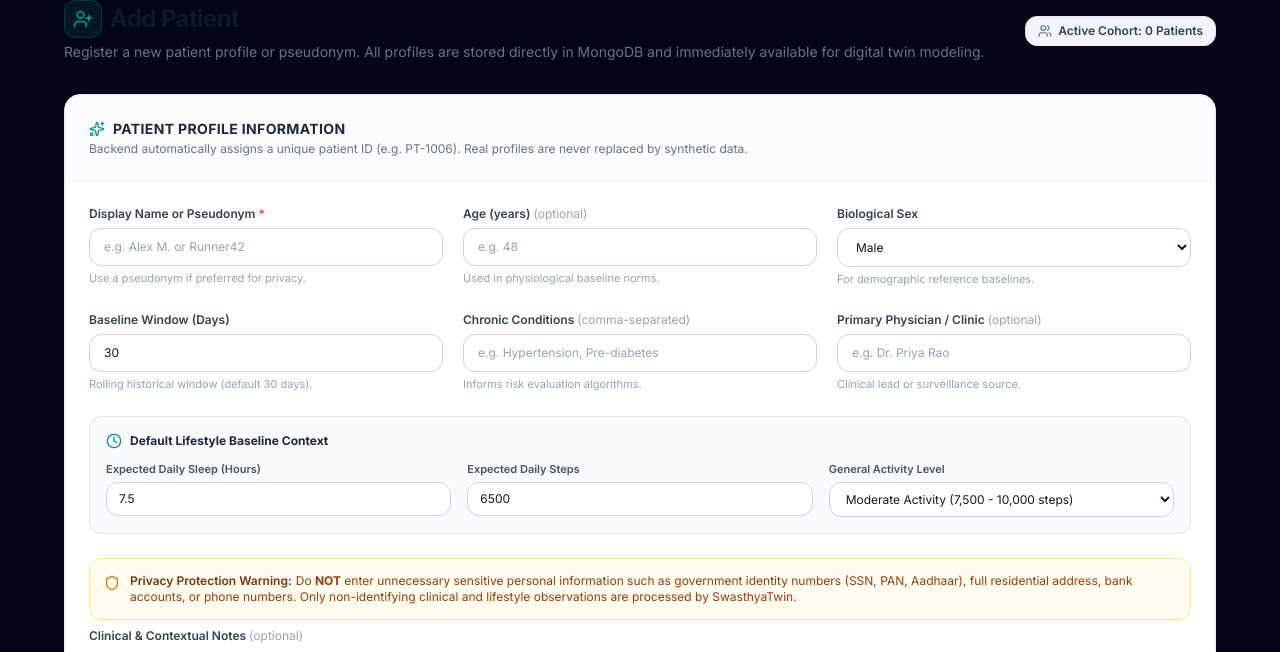
AddPatientPage Component › rejects submission if consent is not confirmed
Type "Jane Doe" into the field with placeholder "e.g. Alex M. or Runner42". click: (266, 247)
box: [89, 228, 443, 266]
(page scrolled)
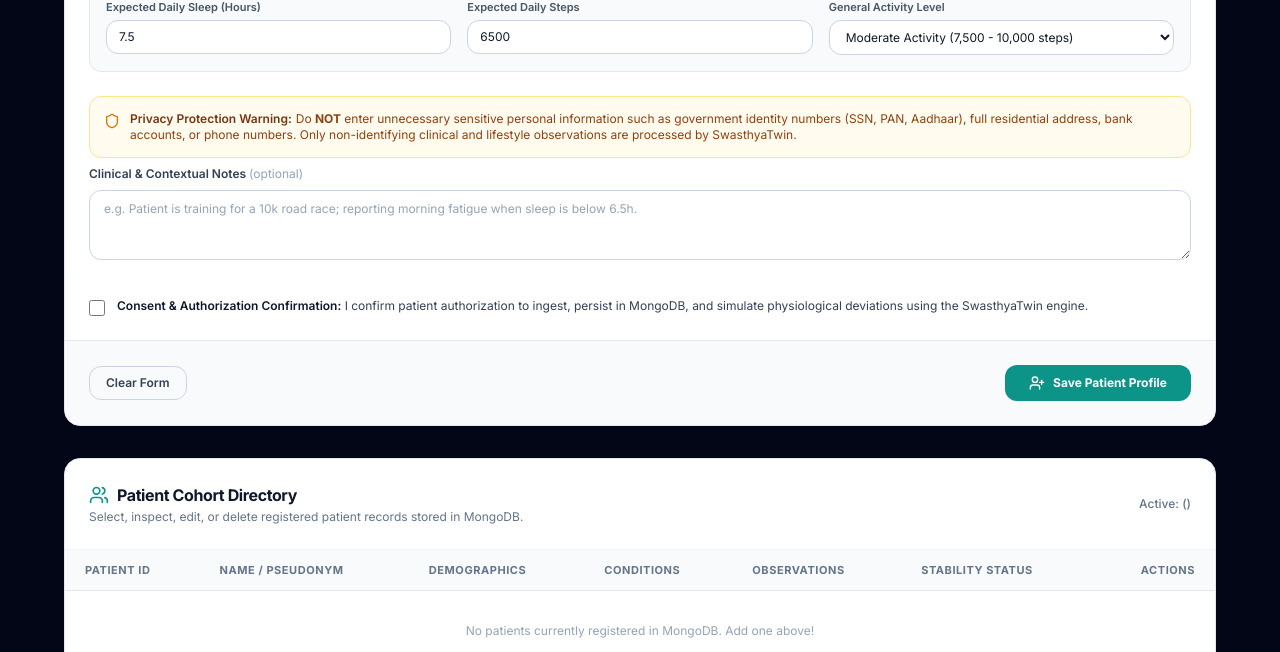
Click the button "Save Patient Profile". click: (1098, 382)
box: [1005, 364, 1191, 400]
(page scrolled)
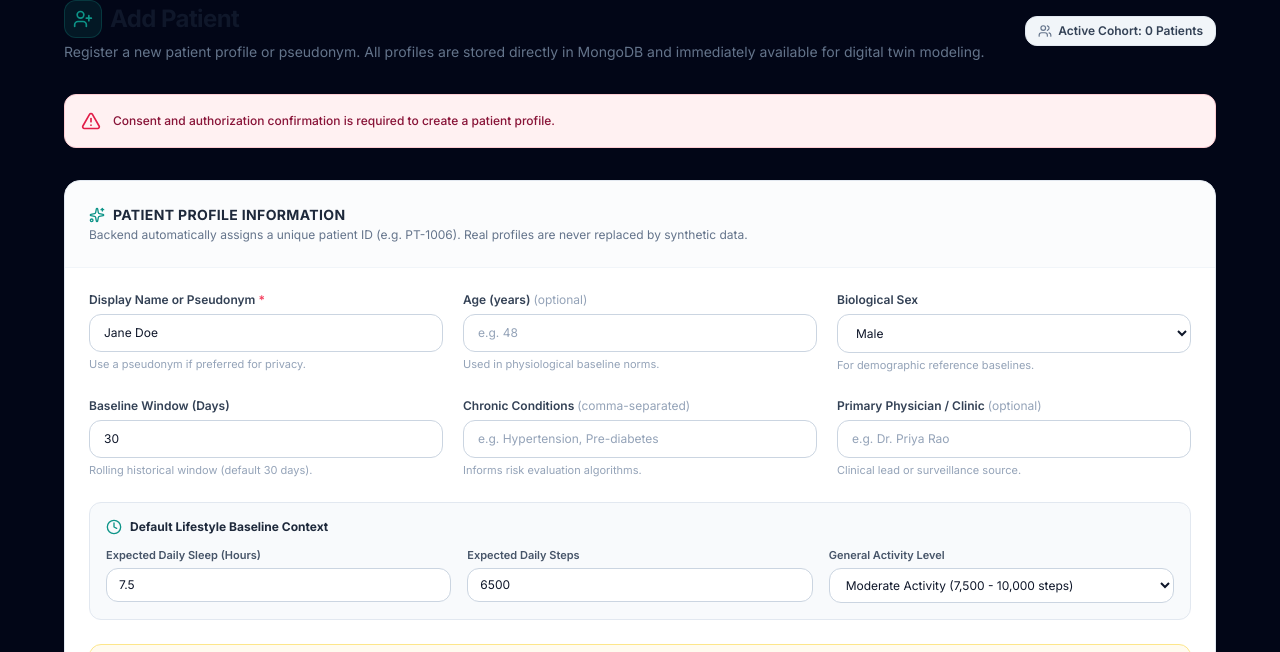
Expected: the text "Consent and authorization confirmation is required" is shown, [113, 113, 555, 128]
